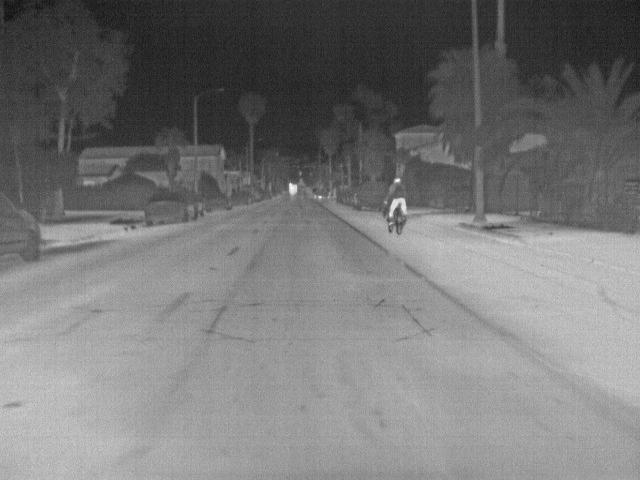car: (0, 190, 45, 264), (144, 191, 196, 228), (356, 179, 388, 212), (206, 194, 232, 211), (190, 193, 205, 218), (345, 184, 359, 206), (233, 193, 253, 207), (333, 190, 346, 204)
person: (388, 176, 407, 222)
